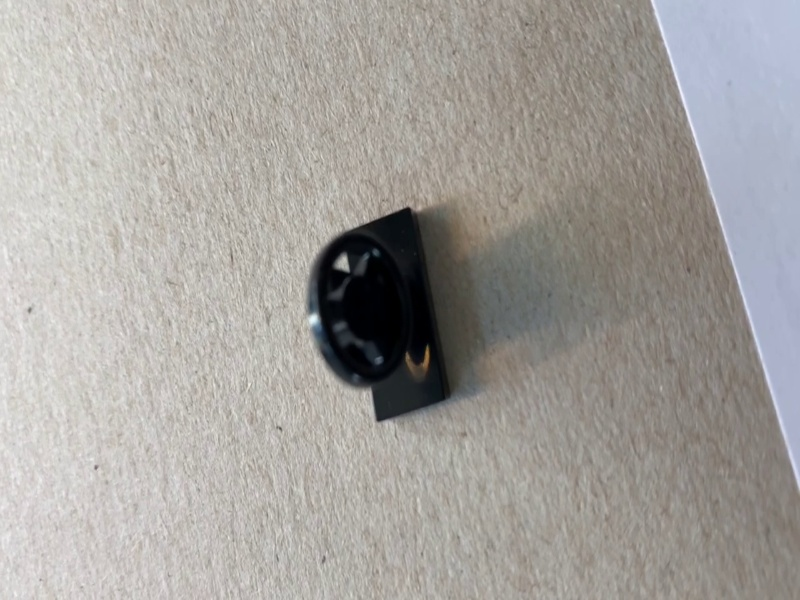steering wheel: (307, 205, 453, 425)
